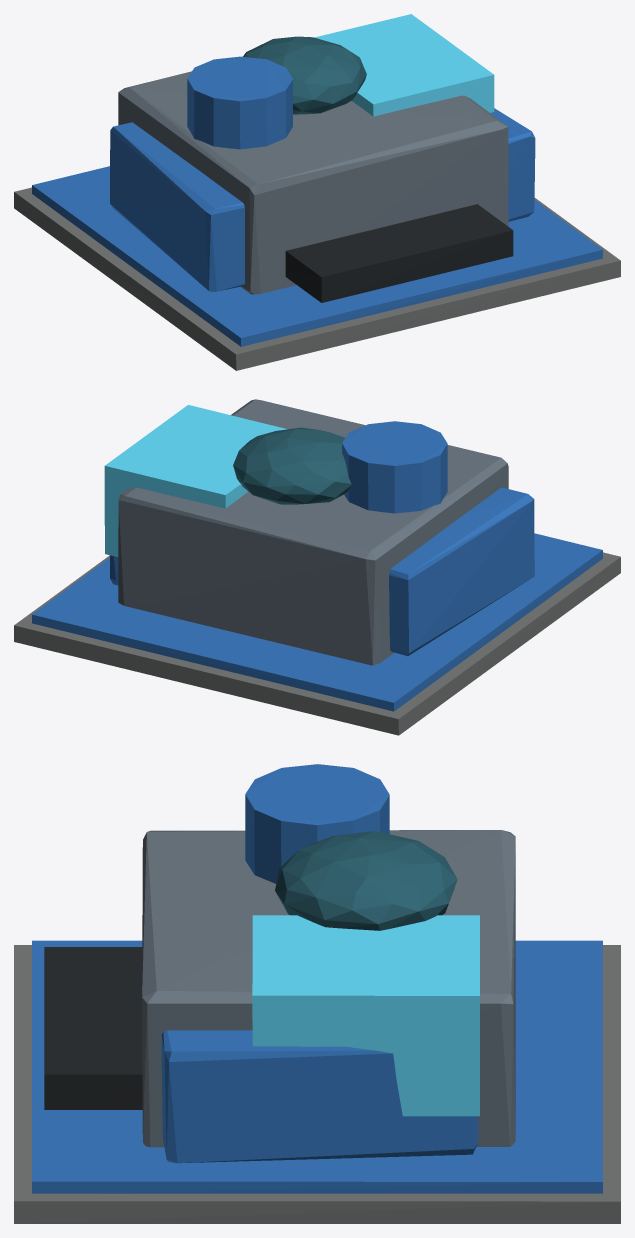
The model's file is SM_Alliance_AL_Refinery_LOD2.fbx.
The picture shows the model from 3 angles, top to bottom: view 1: azimuth 30°, elevation 25°; view 2: azimuth 150°, elevation 25°; view 3: azimuth 270°, elevation 25°; orthographic projection. The views are drawn at different scales.
Visible parts, largest first — view 1: LOD02_SM_Alliance_AL_Refinery; view 2: LOD02_SM_Alliance_AL_Refinery; view 3: LOD02_SM_Alliance_AL_Refinery.
Part boxes in pixels (box(x1,y1,x2,y2)): LOD02_SM_Alliance_AL_Refinery: box(14, 14, 620, 370); LOD02_SM_Alliance_AL_Refinery: box(14, 399, 620, 735); LOD02_SM_Alliance_AL_Refinery: box(14, 764, 620, 1223).
Bounding box in the file's own units: 797 × 797 × 362.
